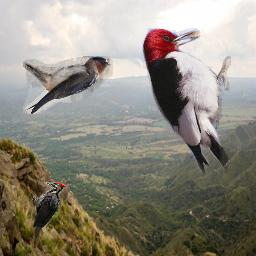Swallow: (23, 56, 113, 114)
Woodpecker: (142, 28, 231, 173), (29, 182, 66, 243)
